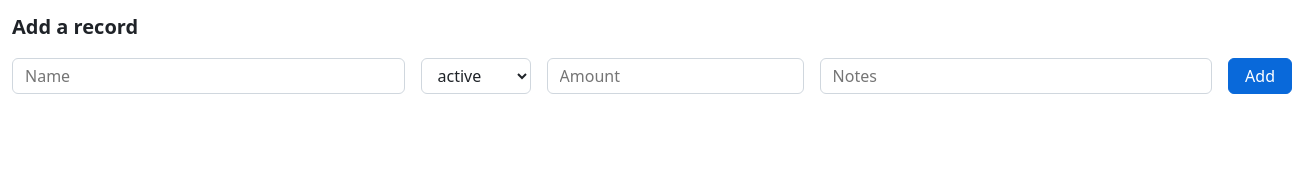
Test case: NewRecordForm › keeps the draft so the user can fix and resubmit after a rejection
Type "x" into the field named "New name" at (208, 76), box x1=12 y1=58 x2=404 y2=94
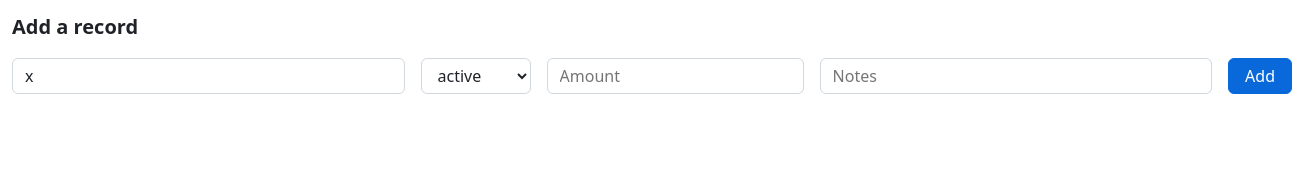
Type "5" into the number field named "New amount" at (675, 76), box x1=546 y1=58 x2=804 y2=94
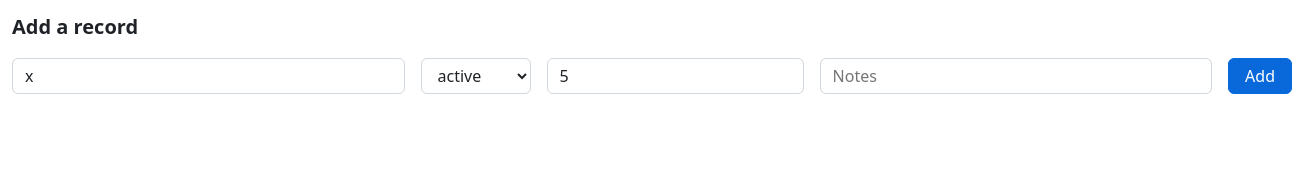
Type "keep me" into the field named "New notes" at (1016, 76), box x1=820 y1=58 x2=1212 y2=94
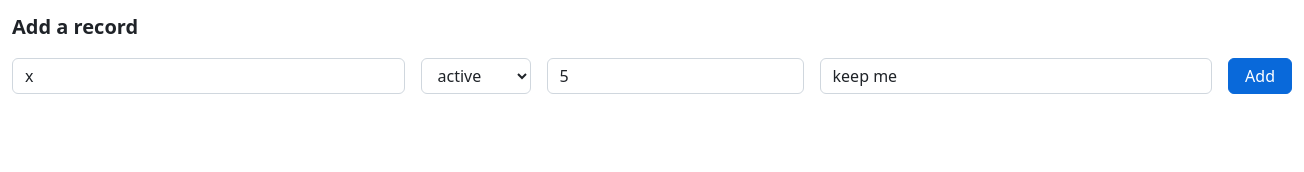
Click the button "Add" at (1260, 76), box x1=1228 y1=58 x2=1292 y2=94
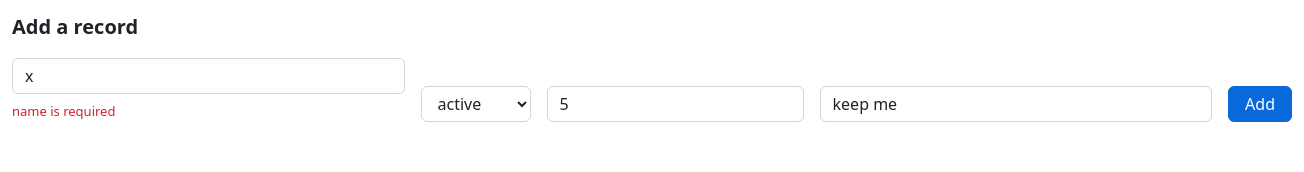
Check: the text "name is required" is shown, box x1=12 y1=102 x2=115 y2=120
